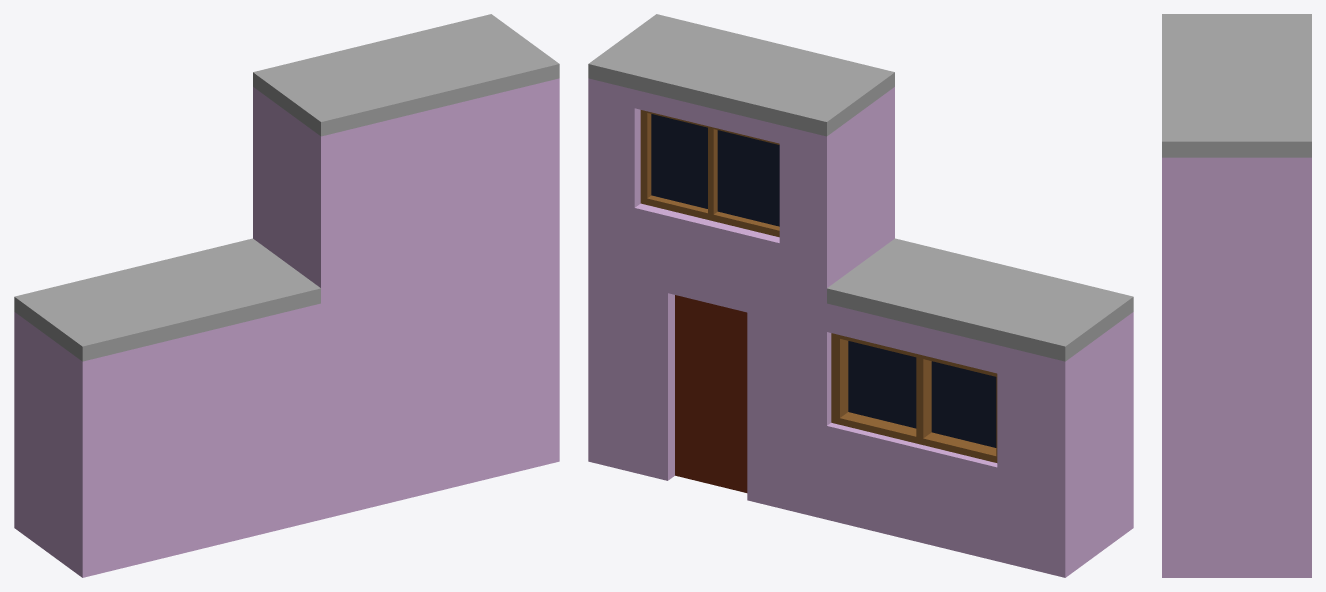
The model's file is house_4.fbx.
The picture shows the model from 3 angles, left to right: view 1: azimuth 30°, elevation 25°; view 2: azimuth 150°, elevation 25°; view 3: azimuth 270°, elevation 25°; orthographic projection. The views are drawn at different scales.
Parts seen in each view (by area): view 1: Cubo; view 2: Cubo; view 3: Cubo.
Part boxes in pixels (bbox=[...]): Cubo: bbox=[14, 14, 559, 577]; Cubo: bbox=[588, 14, 1133, 577]; Cubo: bbox=[1162, 14, 1311, 577].
Bounding box in the file's own units: 5121 × 1269 × 4078.
